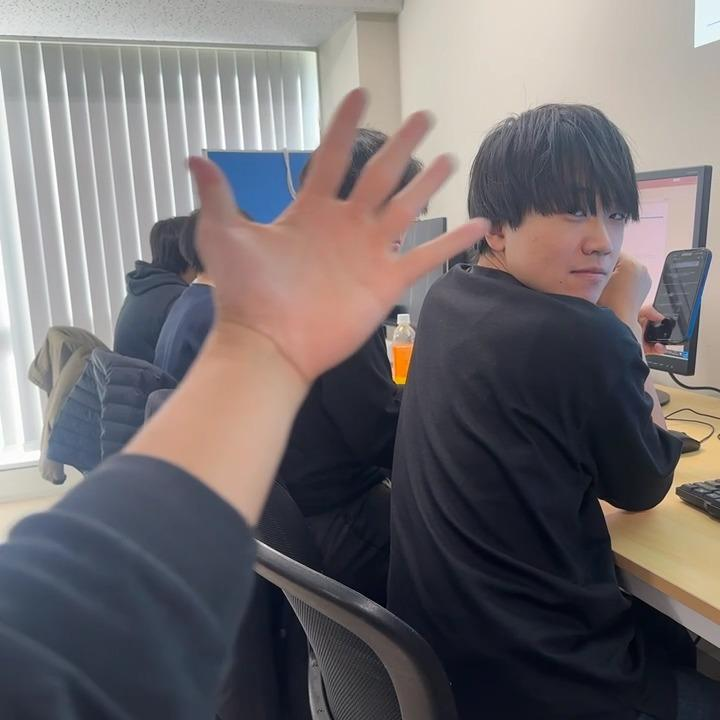without_gloves: (154, 20, 447, 416)
